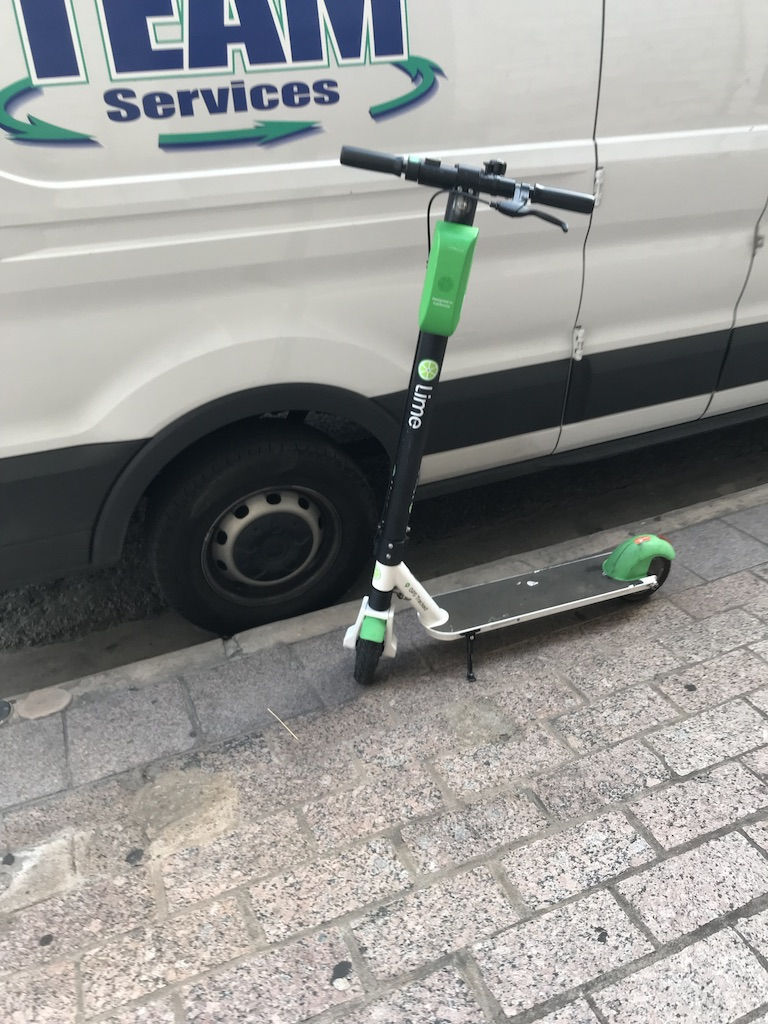scooter: (340, 145, 679, 687)
